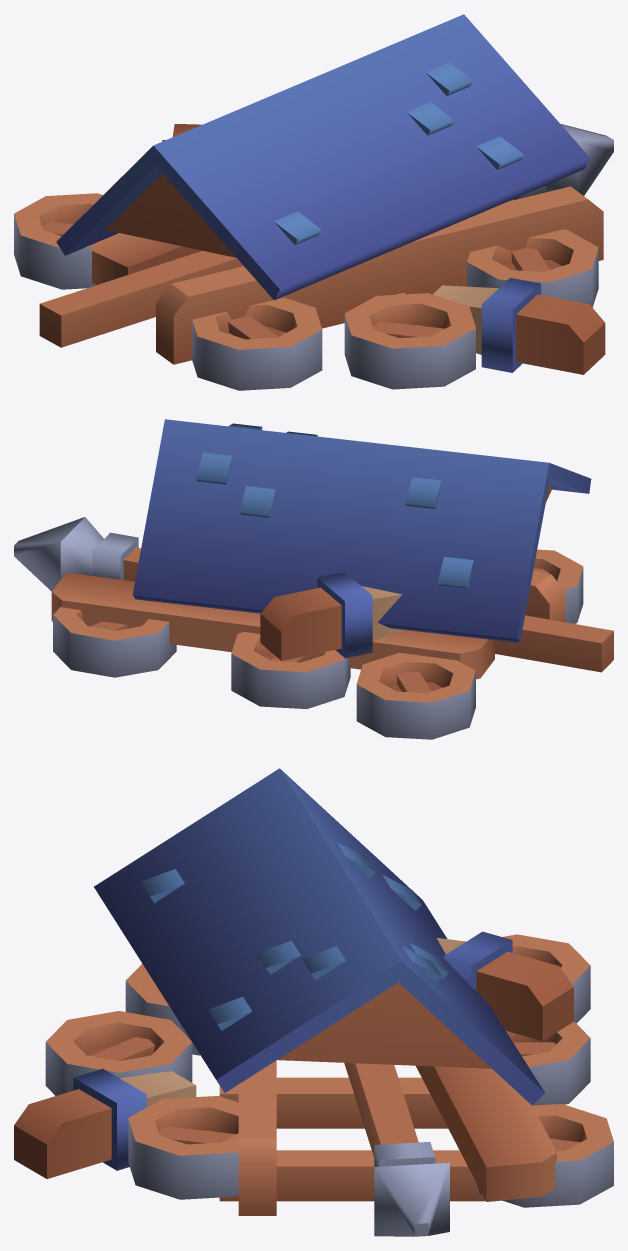
Rendered from siege-ram-demolished.glb.
3 views of the same model, one above another, from view 1: azimuth 30°, elevation 25°; view 2: azimuth 150°, elevation 25°; view 3: azimuth 270°, elevation 25° (orthographic). The views are drawn at different scales.
Visible parts, largest first — view 1: siege-ram-demolished; view 2: siege-ram-demolished; view 3: siege-ram-demolished.
Boxes of the visible parts, x1=… form: siege-ram-demolished: x1=14, y1=14, x2=613, y2=390; siege-ram-demolished: x1=14, y1=419, x2=613, y2=739; siege-ram-demolished: x1=14, y1=768, x2=613, y2=1236.
Size of the model in its own units: 2.08 by 0.7231 by 1.65.
